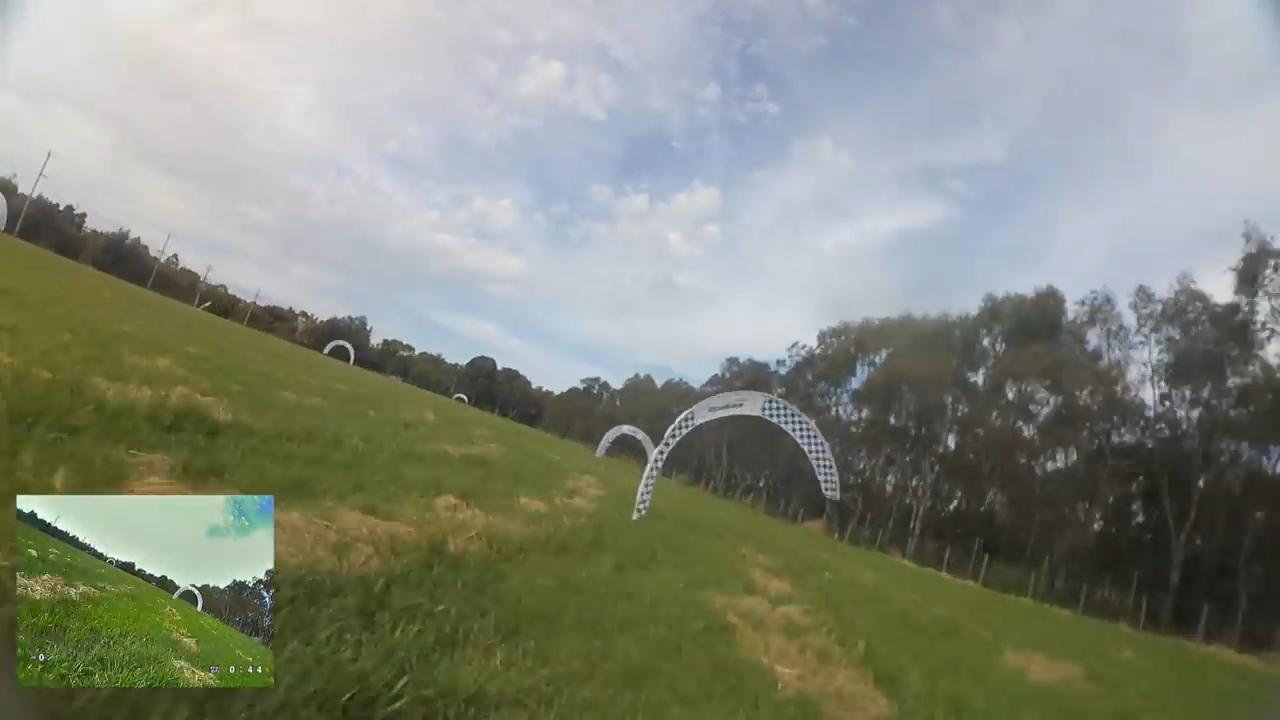gate: (622, 388, 843, 522), (595, 423, 658, 473), (320, 338, 356, 369)
